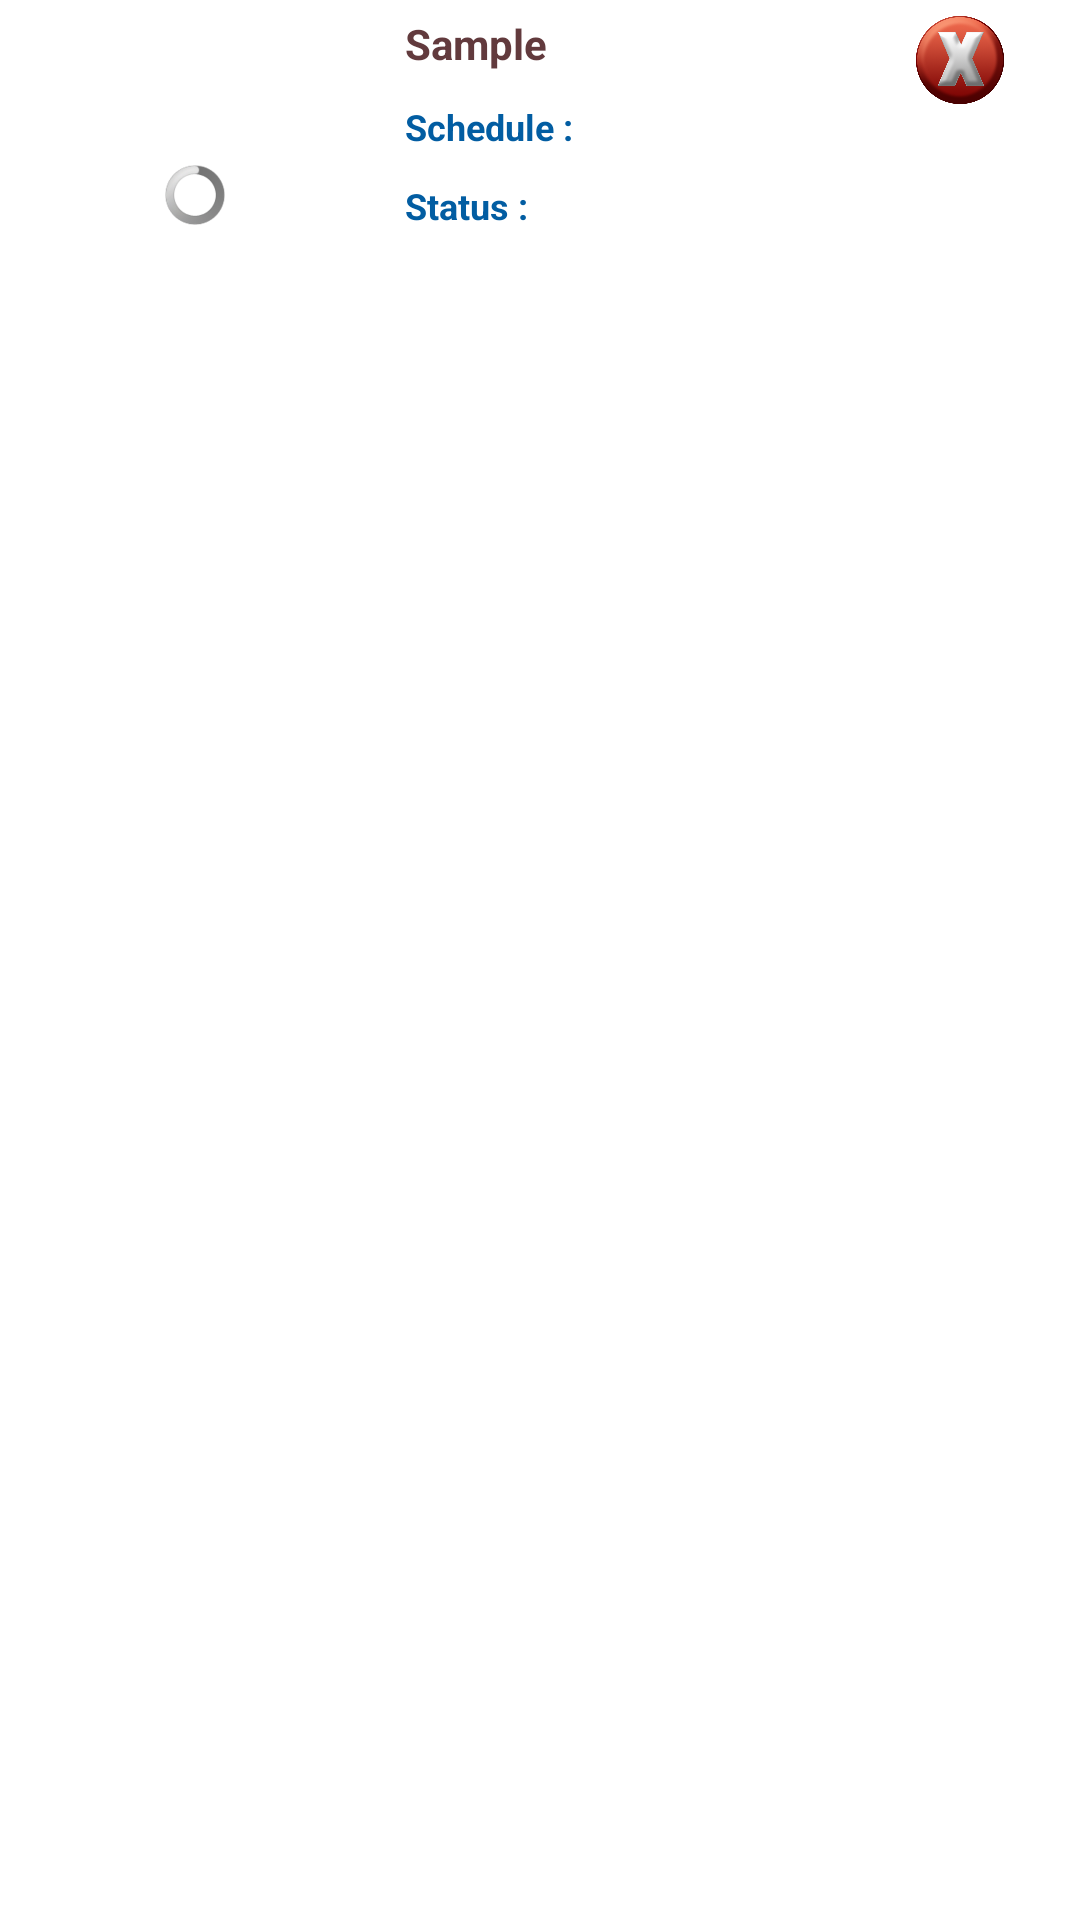

Icons on this 1080×1920 Android screen, each with its box as (x1, y1, x2, y2):
valve close: (916, 16, 1004, 104)
